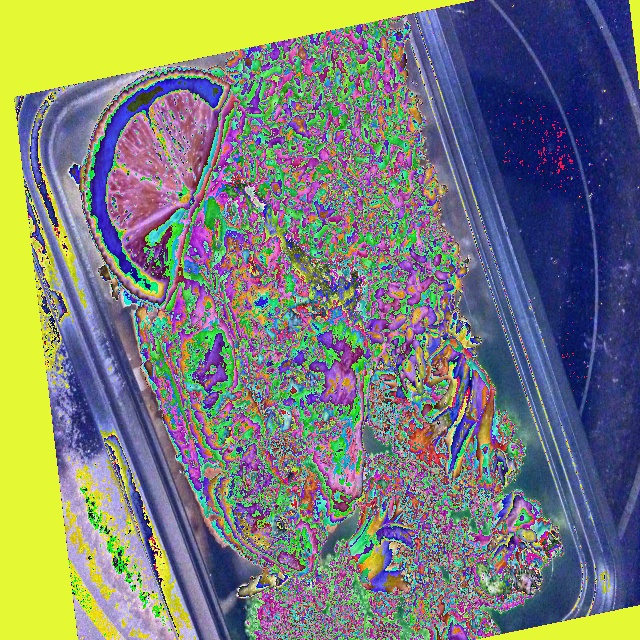background: (82, 16, 564, 639)
